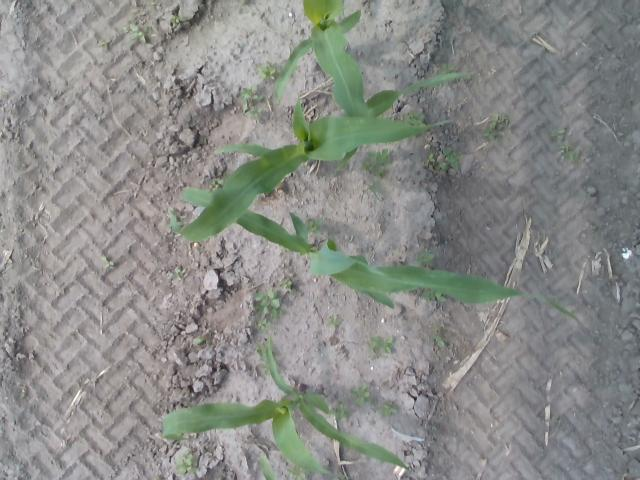Maize: (178, 186, 582, 326), (168, 97, 454, 241), (160, 340, 414, 474), (274, 0, 475, 117), (254, 454, 278, 479)
Weeds: (253, 288, 280, 313), (175, 454, 198, 474), (443, 146, 462, 170), (129, 24, 151, 44), (258, 61, 278, 80), (351, 383, 370, 403), (362, 183, 381, 202), (371, 336, 393, 352), (491, 114, 508, 130), (336, 403, 351, 420), (128, 8, 146, 22), (405, 112, 424, 125), (239, 87, 258, 100), (376, 148, 390, 165), (417, 250, 434, 264), (483, 123, 496, 139), (247, 106, 261, 120), (384, 401, 396, 417), (423, 291, 442, 300), (288, 468, 305, 478), (422, 154, 436, 166), (194, 337, 212, 346), (171, 267, 183, 279), (552, 129, 564, 141), (436, 336, 448, 348), (566, 151, 580, 161), (558, 141, 572, 151), (258, 319, 270, 330), (361, 160, 372, 172), (441, 63, 454, 73), (99, 39, 110, 50), (280, 280, 292, 290), (102, 257, 114, 267), (310, 220, 320, 232), (328, 317, 341, 326), (434, 163, 448, 171), (374, 167, 384, 178), (270, 310, 282, 318), (367, 149, 377, 158), (171, 16, 182, 24), (244, 100, 250, 114), (122, 26, 128, 34), (152, 2, 162, 6)
